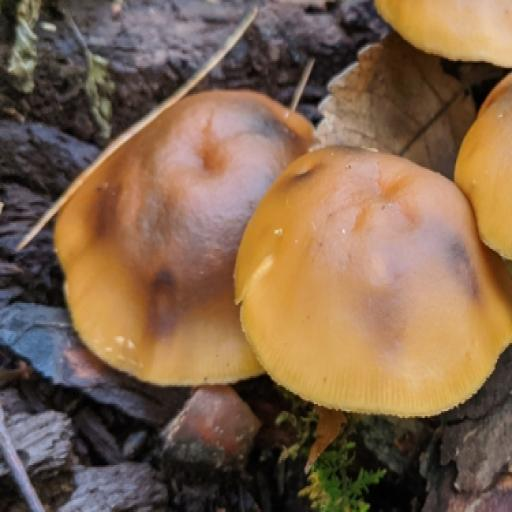mushroom: (54, 79, 506, 434)
